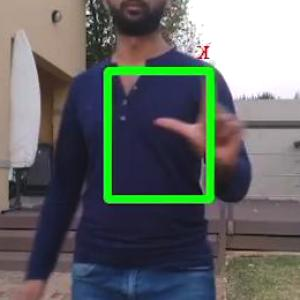land_hand: (148, 48, 254, 186)
